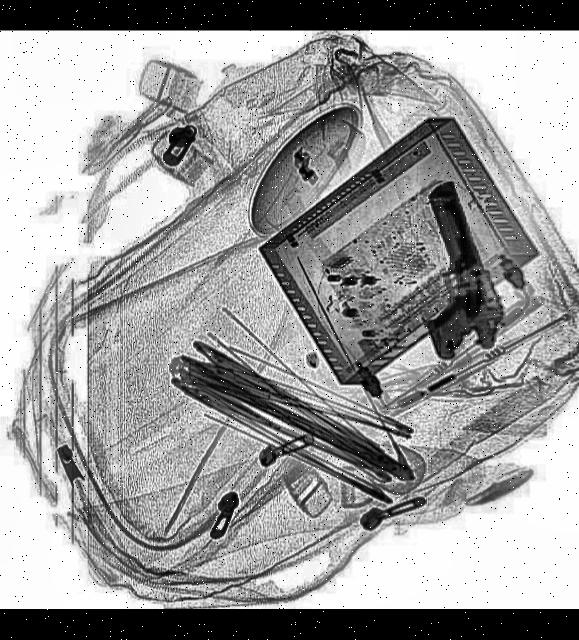Gun: (376, 178, 518, 368)
